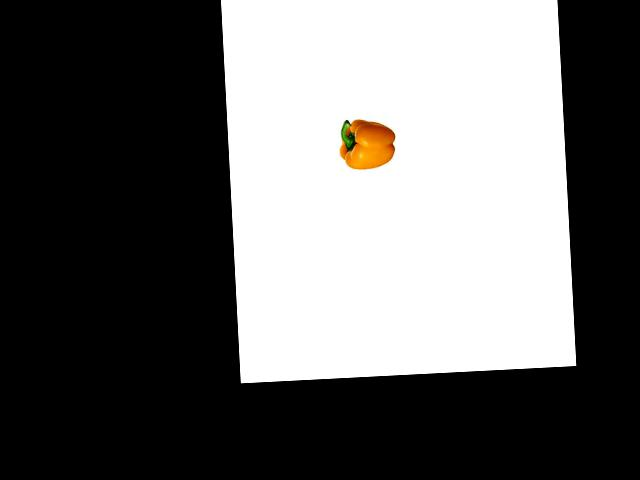bell_pepper: (333, 112, 399, 175)
